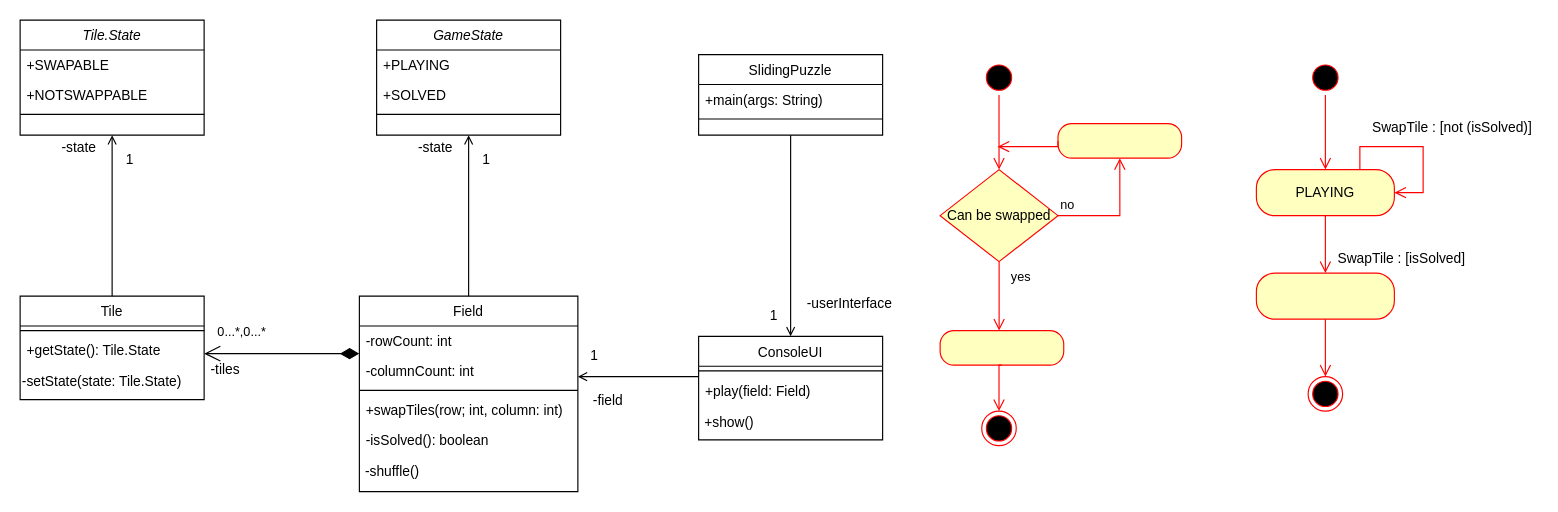
The diagram is 1558 pixels wide and 512 high, and some of its shapes have lost their labels. The shapes that lost their labels are listed below. From the top down, each one's centre as x and y in pixels, then its label:
At (1119,140): "NOTSWAPPABLE".
At (1324,295): "SOLVED".
At (1001,347): "SWAPPABLE".
